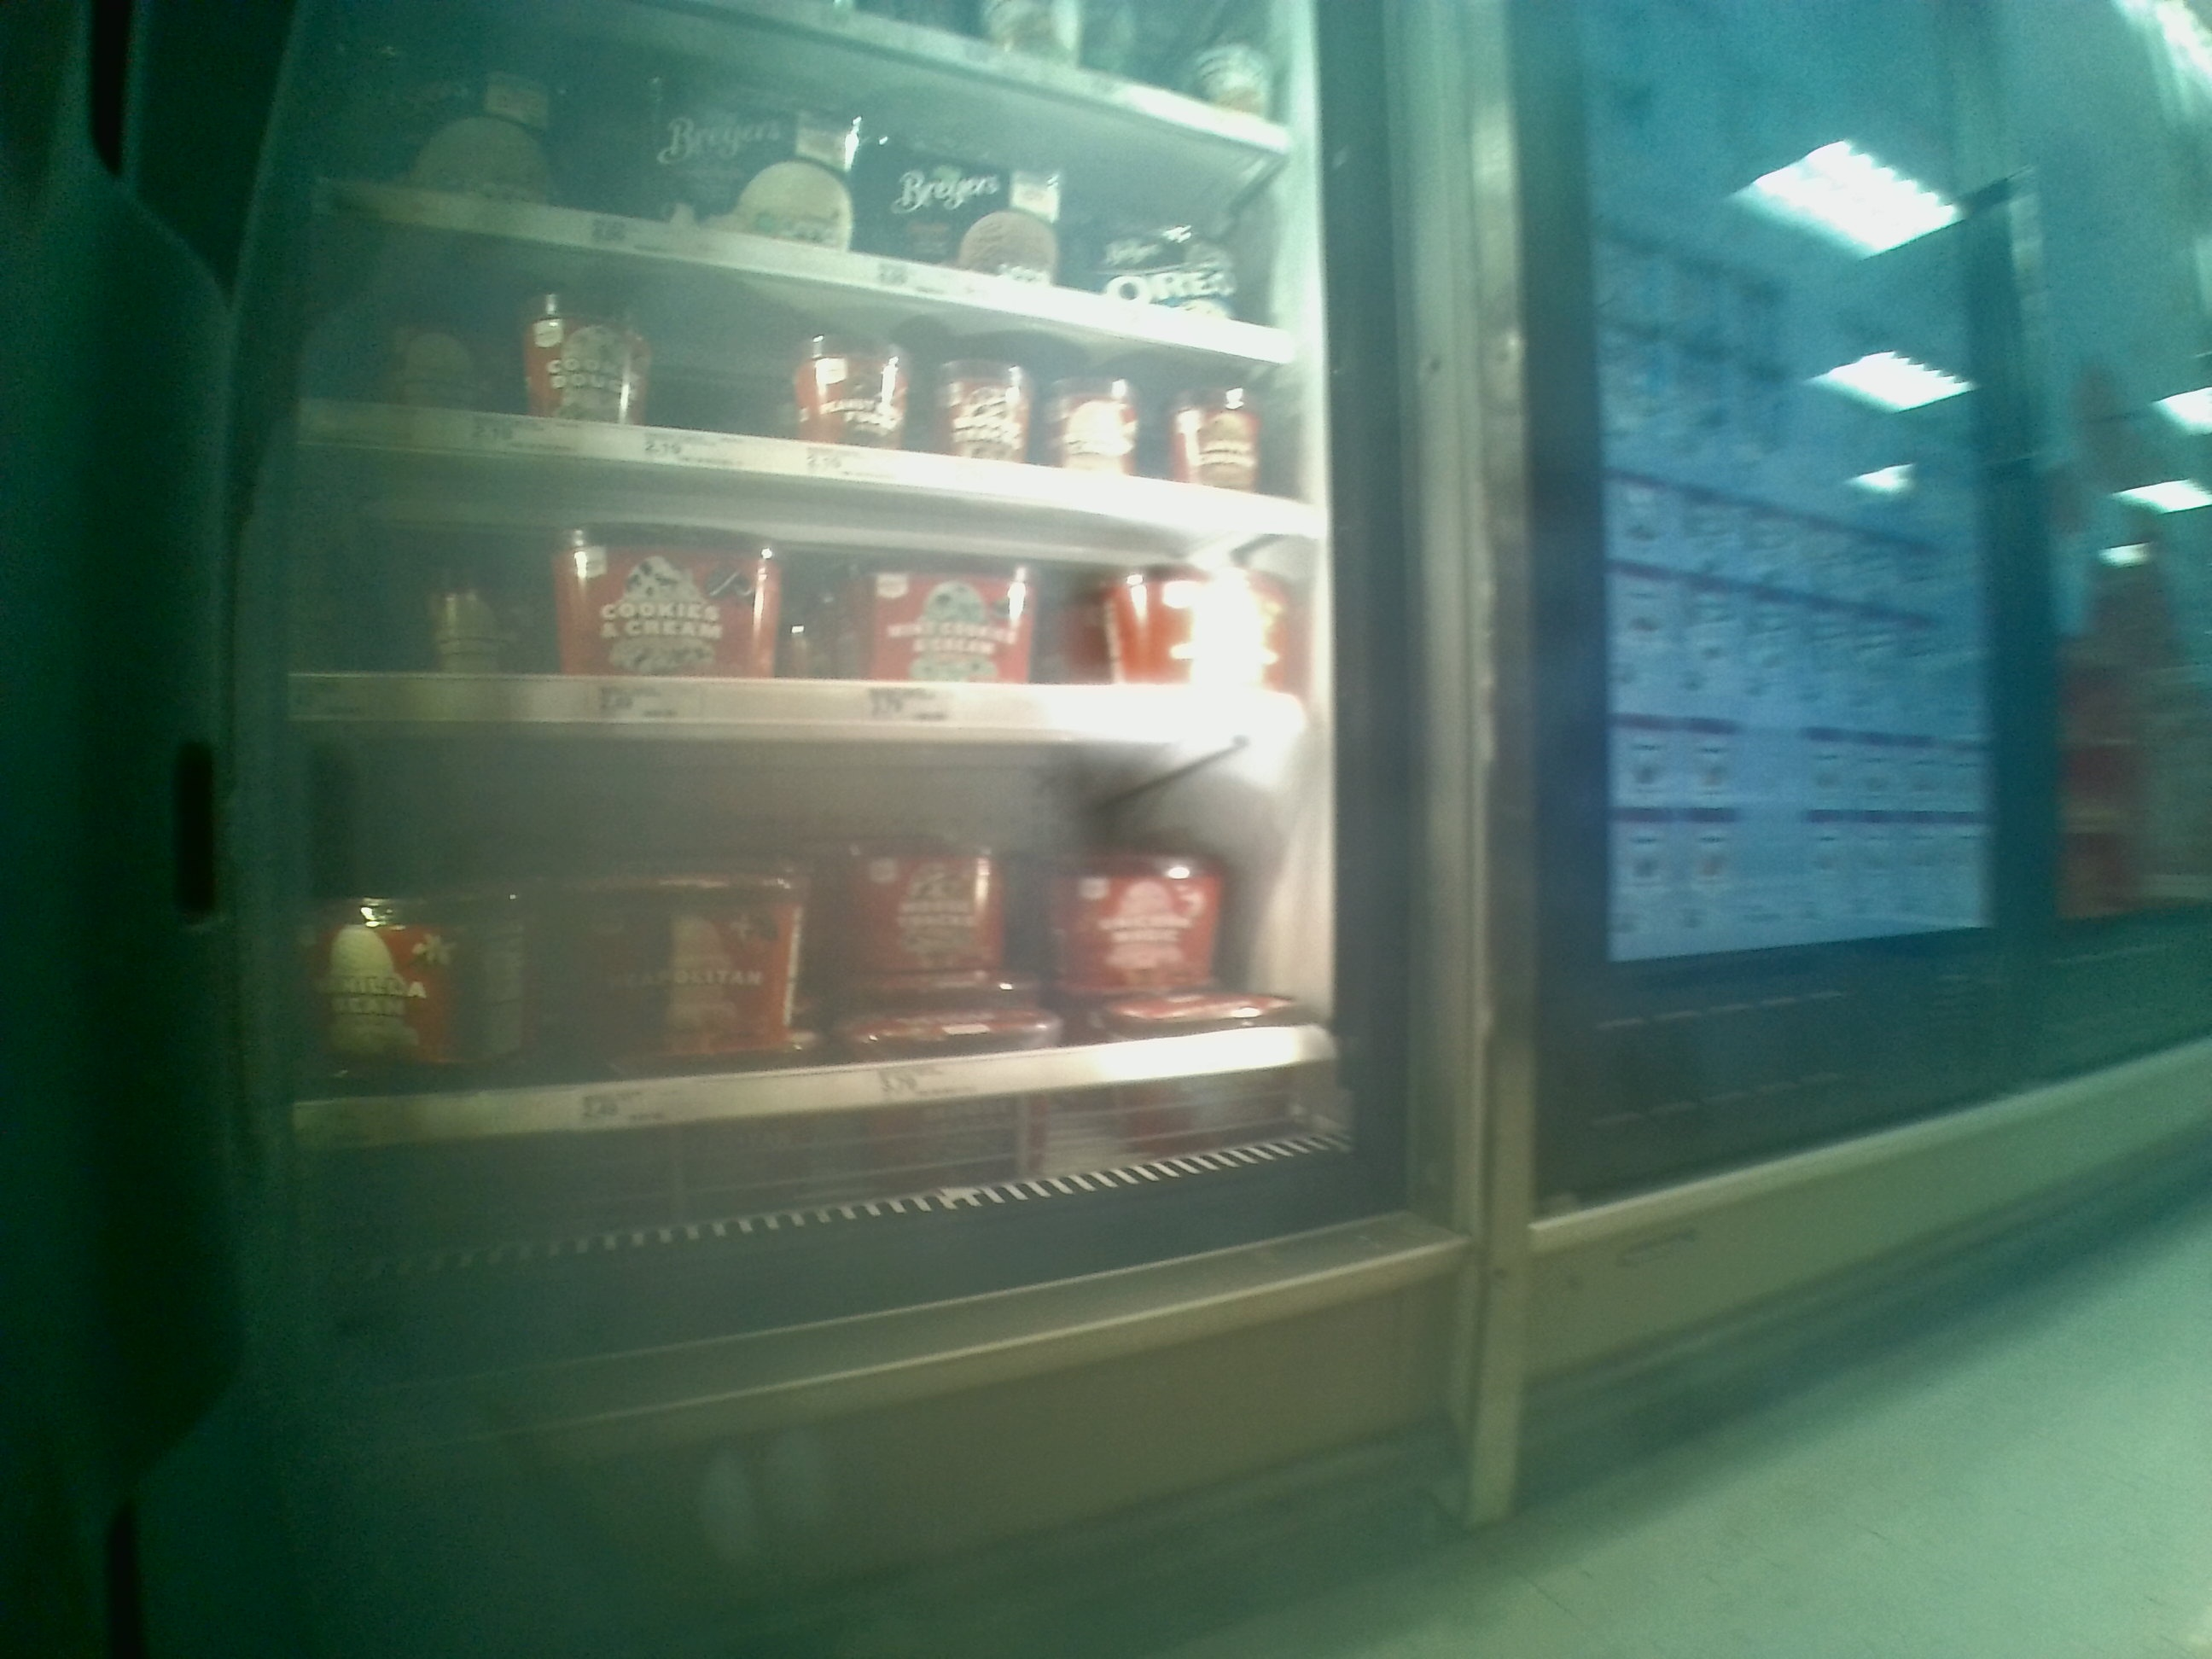shelf: (280, 727, 1355, 1223), (310, 211, 1320, 545), (284, 455, 1327, 728)
